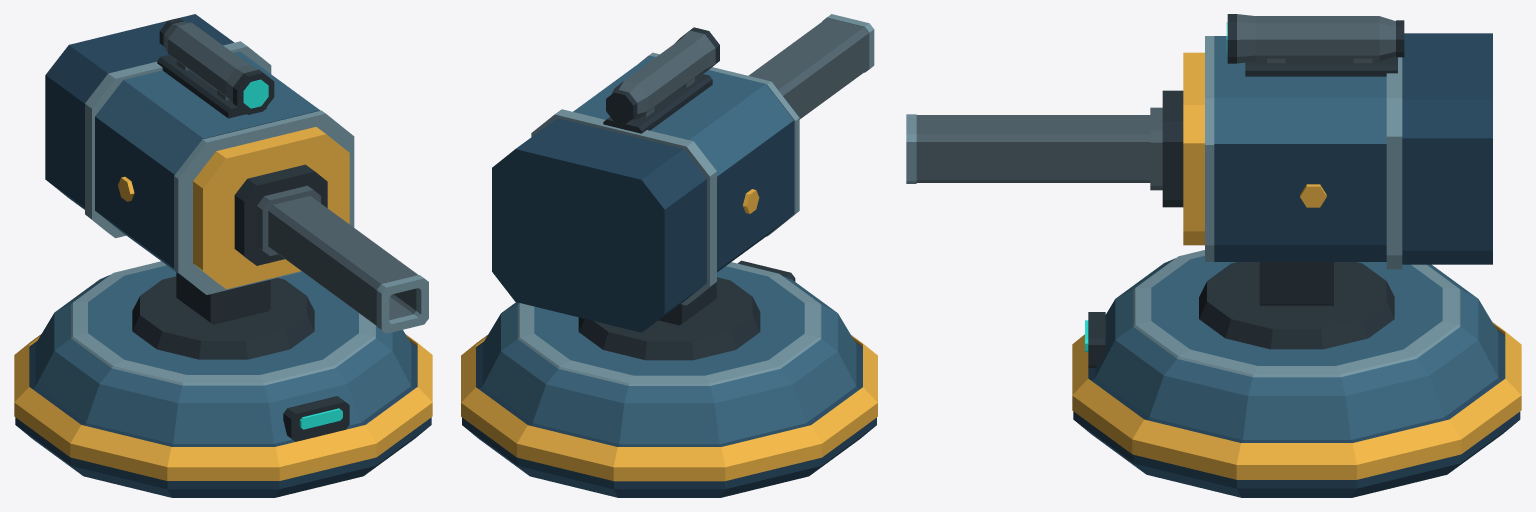
The model's file is PrecisionLevel1.obj.
3 views of the same model, side by side, from view 1: azimuth 30°, elevation 25°; view 2: azimuth 150°, elevation 25°; view 3: azimuth 270°, elevation 25° (orthographic). The views are drawn at different scales.
Visible parts, largest first — view 1: UpperPlinth, GoldBelt, GoldMantlet, SquareBarrel, UpperArmor, RearCasing, Turntable, Foundation, Housing, FrontRim, TopRim, Breech (+10 smaller); view 2: RearCasing, UpperPlinth, GoldBelt, UpperArmor, Foundation, Turntable, Housing, SquareBarrel, TopRim, ScopeBody, RearReinforcement, ScopeRail (+4 smaller); view 3: UpperPlinth, RearCasing, Housing, GoldBelt, SquareBarrel, UpperArmor, Turntable, Foundation, ScopeBody, TopRim, GoldMantlet, RearReinforcement (+7 smaller).
Part boxes in pixels (bbox=[...]): UpperPlinth: bbox=[35, 265, 411, 443]; GoldBelt: bbox=[14, 334, 432, 480]; GoldMantlet: bbox=[193, 127, 349, 289]; SquareBarrel: bbox=[268, 196, 417, 325]; UpperArmor: bbox=[95, 51, 319, 174]; RearCasing: bbox=[45, 14, 233, 209]; Turntable: bbox=[132, 276, 314, 359]; Foundation: bbox=[15, 341, 431, 497]; Housing: bbox=[95, 110, 320, 280]; FrontRim: bbox=[174, 110, 354, 294]; TopRim: bbox=[71, 261, 375, 385]; Breech: bbox=[234, 164, 327, 265]; RearCasing: bbox=[492, 118, 706, 332]; UpperPlinth: bbox=[482, 266, 856, 444]; GoldBelt: bbox=[461, 335, 877, 481]; UpperArmor: bbox=[573, 55, 793, 176]; Foundation: bbox=[462, 341, 876, 497]; Turntable: bbox=[578, 277, 760, 360]; Housing: bbox=[717, 120, 793, 272]; SquareBarrel: bbox=[748, 18, 868, 119]; TopRim: bbox=[517, 262, 821, 385]; ScopeBody: bbox=[612, 30, 715, 120]; RearReinforcement: bbox=[531, 109, 716, 305]; ScopeRail: bbox=[603, 73, 712, 133]; UpperPlinth: bbox=[1095, 256, 1498, 439]; RearCasing: bbox=[1402, 33, 1492, 264]; Housing: bbox=[1214, 144, 1386, 261]; GoldBelt: bbox=[1072, 322, 1521, 479]; SquareBarrel: bbox=[916, 115, 1150, 182]; UpperArmor: bbox=[1214, 36, 1386, 143]; Turntable: bbox=[1199, 262, 1394, 349]; Foundation: bbox=[1073, 329, 1520, 497]; ScopeBody: bbox=[1237, 14, 1395, 63]; TopRim: bbox=[1133, 250, 1460, 377]; GoldMantlet: bbox=[1183, 52, 1204, 245]; RearReinforcement: bbox=[1386, 57, 1402, 269].
Size of the model in its own units: 2.18 by 2.1 by 2.98.
